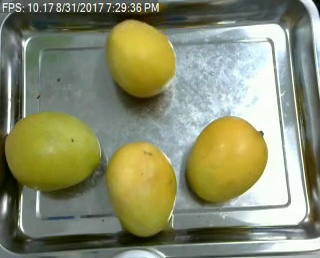Mango: (5, 109, 103, 192), (188, 115, 267, 203), (108, 142, 177, 237), (104, 15, 176, 100)
